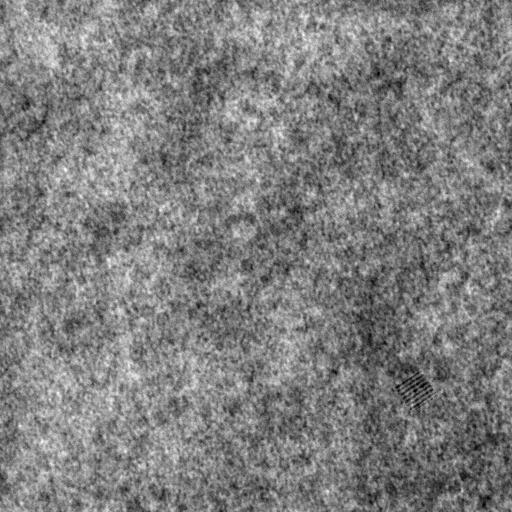impact: (392, 370, 437, 410)
